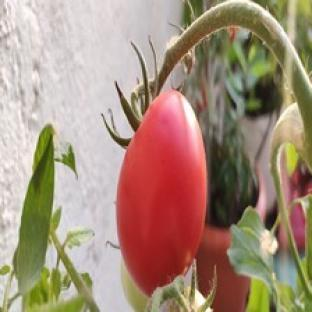Tomato: (117, 91, 207, 295), (122, 262, 149, 311)
